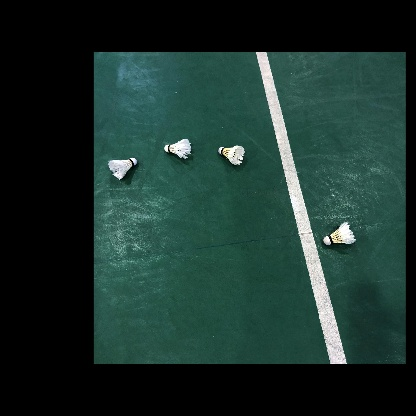ball_single: (323, 221, 356, 245), (108, 158, 137, 180), (218, 145, 245, 166), (164, 139, 192, 159)
